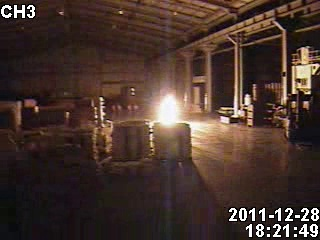fire: (155, 92, 181, 125)
